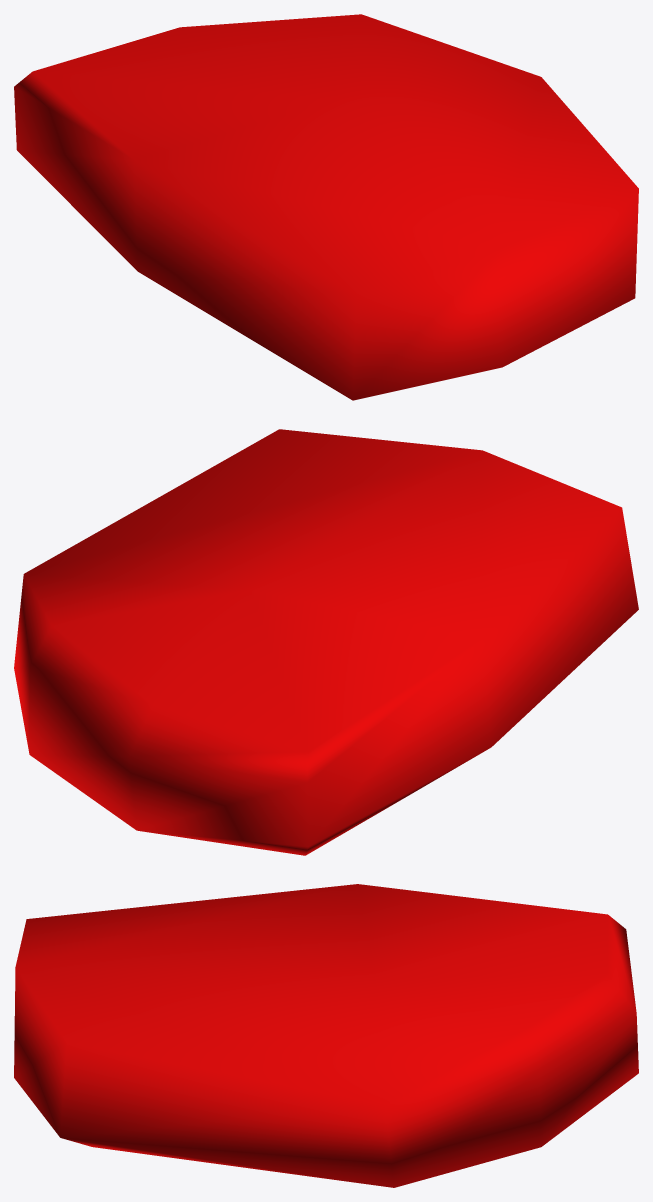
File: Concrete_Block_07.fbx
3 renders of one model, top to bottom at view 1: azimuth 30°, elevation 25°; view 2: azimuth 150°, elevation 25°; view 3: azimuth 270°, elevation 25°, orthographic. The views are drawn at different scales.
Visible parts, largest first — view 1: Concrete_Block_07; view 2: Concrete_Block_07; view 3: Concrete_Block_07.
Part boxes in pixels (left/top/right/bottom): Concrete_Block_07: left=14, top=14, right=638, bottom=400; Concrete_Block_07: left=14, top=429, right=638, bottom=855; Concrete_Block_07: left=14, top=884, right=638, bottom=1187.
Bounding box in the file's own units: 52.3 × 14.67 × 70.68.
